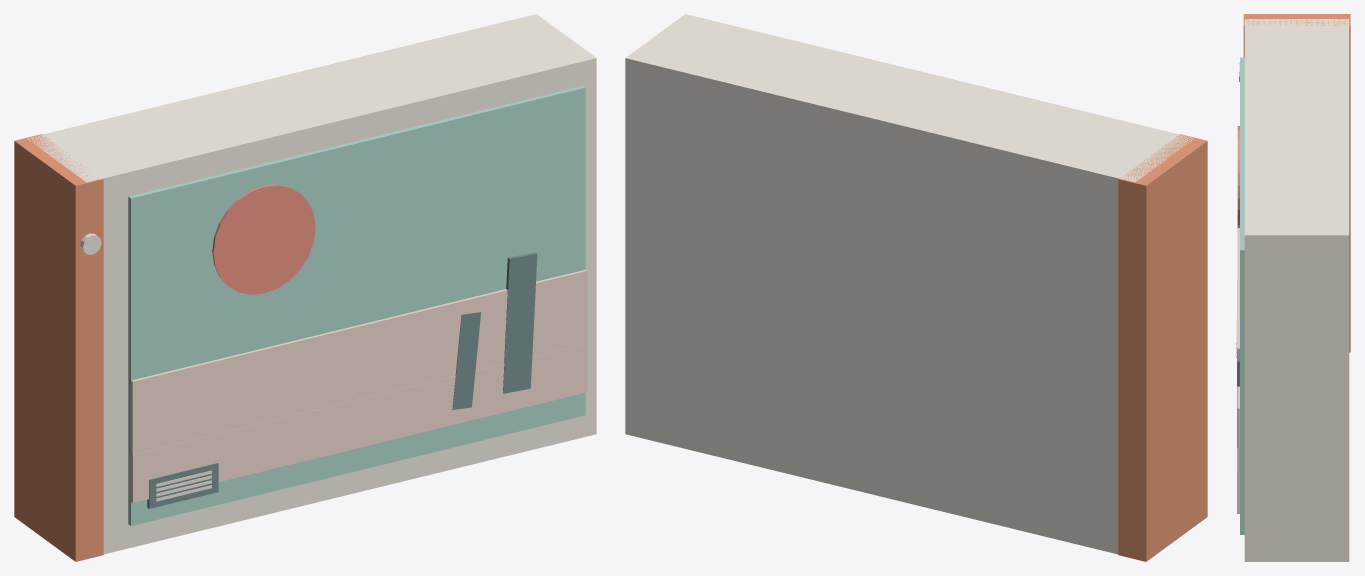
File: item_85_photo_album.glb
3 renders of one model, left to right at view 1: azimuth 30°, elevation 25°; view 2: azimuth 150°, elevation 25°; view 3: azimuth 270°, elevation 25°, orthographic. The views are drawn at different scales.
Visible parts, largest first — view 1: I85_Art, I85_Cover, I85_Spine, I85_CloudBand, I85_Water, I85_Sun, I85_Tree0, I85_Tree1, I85_Barcode; view 2: I85_Cover, I85_Spine; view 3: I85_Cover, I85_Art, I85_Spine, I85_CloudBand, I85_Sun, I85_Water, I85_Tree0.
Boxes of the visible parts, <box> form: I85_Art: <box>128,86,585,525</box>; I85_Cover: <box>27,14,596,554</box>; I85_Spine: <box>14,134,103,561</box>; I85_CloudBand: <box>129,269,587,454</box>; I85_Water: <box>130,344,587,502</box>; I85_Sun: <box>212,184,315,294</box>; I85_Tree0: <box>503,252,537,393</box>; I85_Tree1: <box>452,312,481,409</box>; I85_Barcode: <box>147,463,218,508</box>; I85_Cover: <box>625,14,1194,554</box>; I85_Spine: <box>1118,134,1207,561</box>; I85_Cover: <box>1244,19,1349,561</box>; I85_Art: <box>1240,57,1244,534</box>; I85_Spine: <box>1243,14,1350,352</box>; I85_CloudBand: <box>1237,216,1241,471</box>; I85_Sun: <box>1237,126,1239,227</box>; I85_Water: <box>1237,279,1242,513</box>; I85_Tree0: <box>1237,348,1239,447</box>.
Size of the model in its own units: 0.225 by 0.155 by 0.0491.
